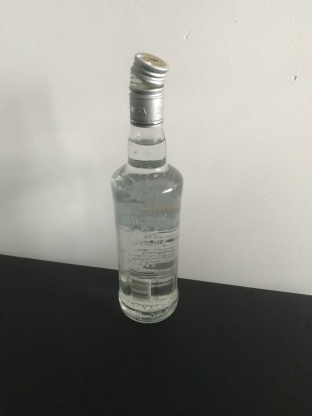nakretka: (127, 50, 169, 128)
